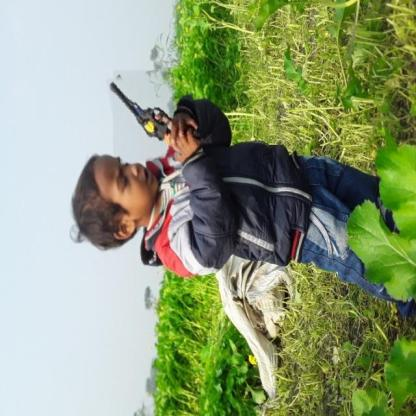handgun: (109, 67, 200, 162)
